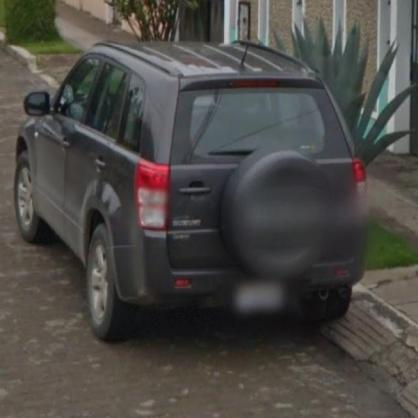car: (13, 38, 372, 346)
